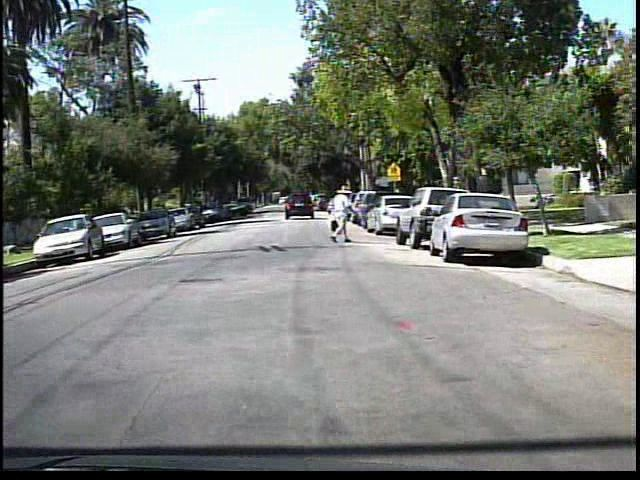person: (326, 184, 358, 245)
